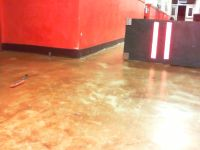switch: (151, 22, 159, 59), (164, 22, 172, 59)
